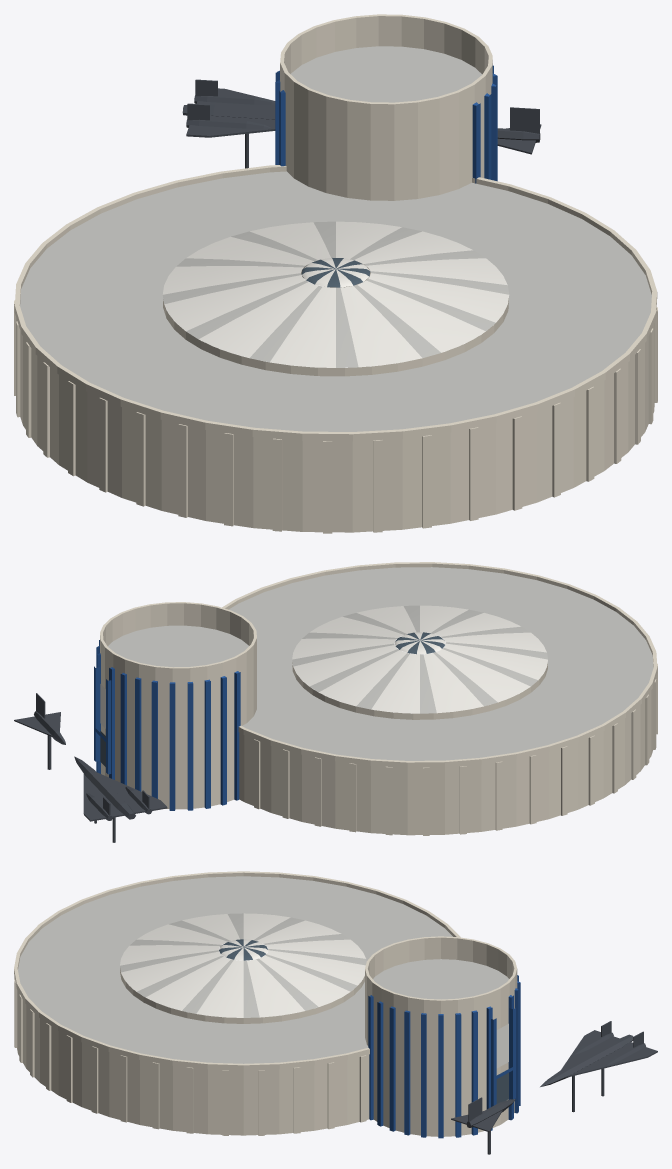
The model's file is sd-air-and-space-museum.glb.
3 renders of one model, top to bottom at view 1: azimuth 30°, elevation 25°; view 2: azimuth 150°, elevation 25°; view 3: azimuth 270°, elevation 25°, orthographic. The views are drawn at different scales.
Parts seen in each view (by area): view 1: San Diego Air & Space Museum; view 2: San Diego Air & Space Museum; view 3: San Diego Air & Space Museum.
Boxes of the visible parts, box(x1,y1,x2,y2) form: San Diego Air & Space Museum: box(14, 14, 657, 533); San Diego Air & Space Museum: box(14, 562, 657, 842); San Diego Air & Space Museum: box(14, 871, 657, 1154).
Bounding box in the file's own units: 114 × 31.6 × 135.
